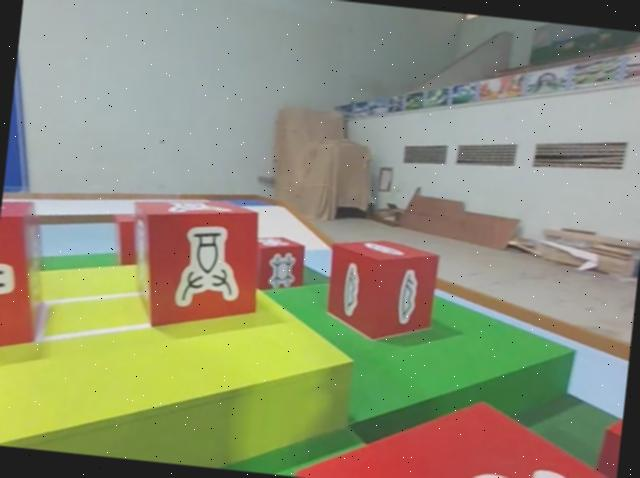R2 Real: (291, 376, 624, 478), (123, 194, 266, 337), (324, 236, 440, 344), (0, 197, 57, 366), (250, 235, 304, 295)
